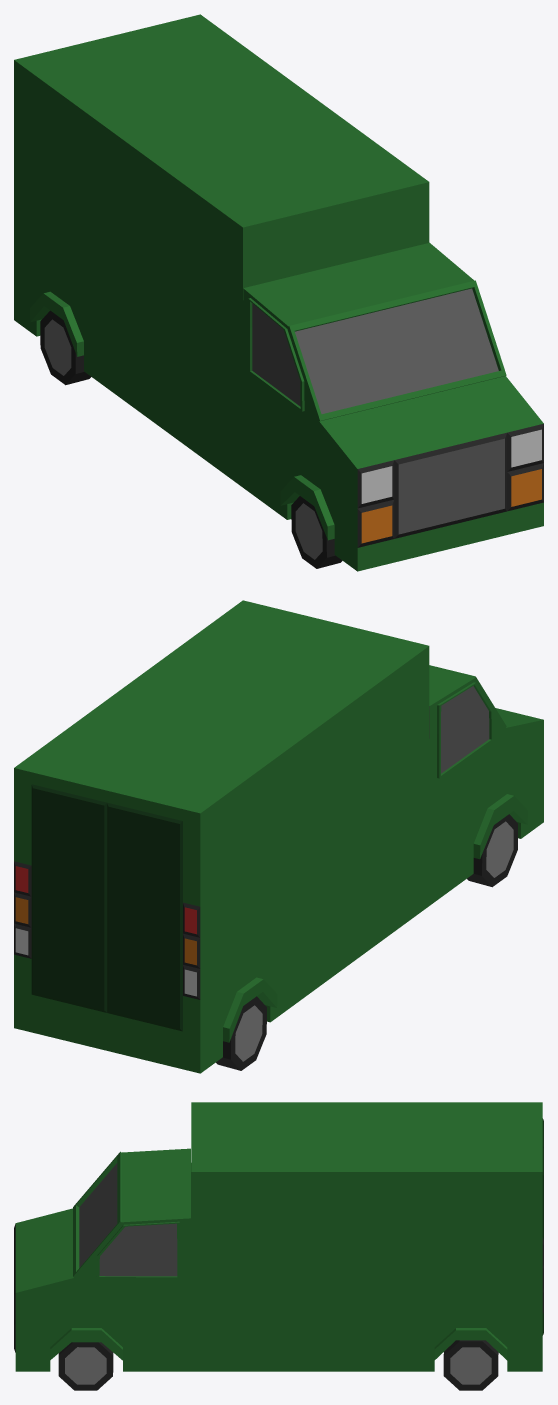
The model's file is Van1Green.fbx.
3 renders of one model, top to bottom at view 1: azimuth 30°, elevation 25°; view 2: azimuth 150°, elevation 25°; view 3: azimuth 270°, elevation 25°, orthographic. The views are drawn at different scales.
Parts seen in each view (by area): view 1: Cube, Cylinder.003, Cylinder.000; view 2: Cube, Cylinder.003, Cylinder.000; view 3: Cube, Cylinder.003, Cylinder.000.
Part boxes in pixels (<box>): Cube: <box>14,14,543,571</box>; Cylinder.003: <box>40,310,90,385</box>; Cylinder.000: <box>291,496,342,568</box>; Cube: <box>14,600,543,1073</box>; Cylinder.003: <box>216,996,266,1070</box>; Cylinder.000: <box>467,814,517,887</box>; Cube: <box>14,1102,543,1371</box>; Cylinder.003: <box>443,1340,498,1390</box>; Cylinder.000: <box>58,1342,113,1390</box>.
Size of the model in its own units: 226 by 307 by 674.
